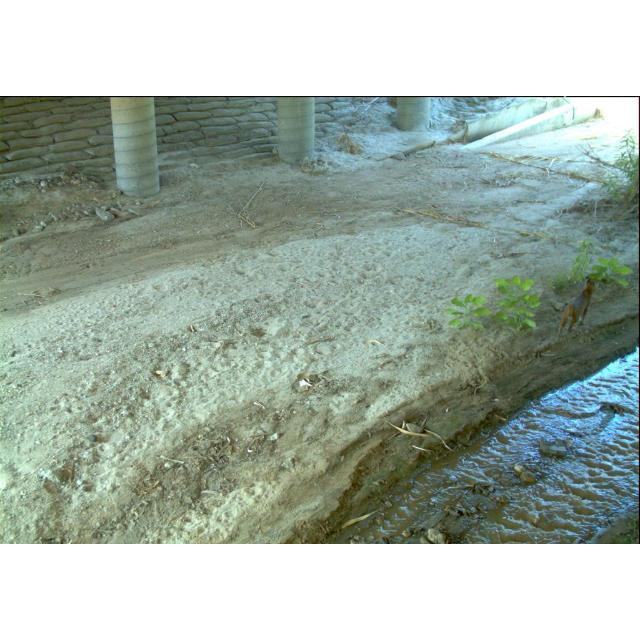animals: (558, 271, 600, 335)
